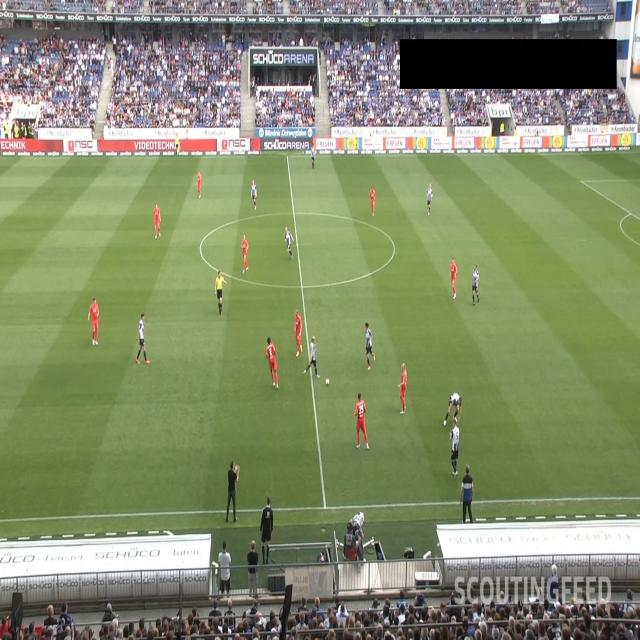ball: (325, 378, 330, 387)
